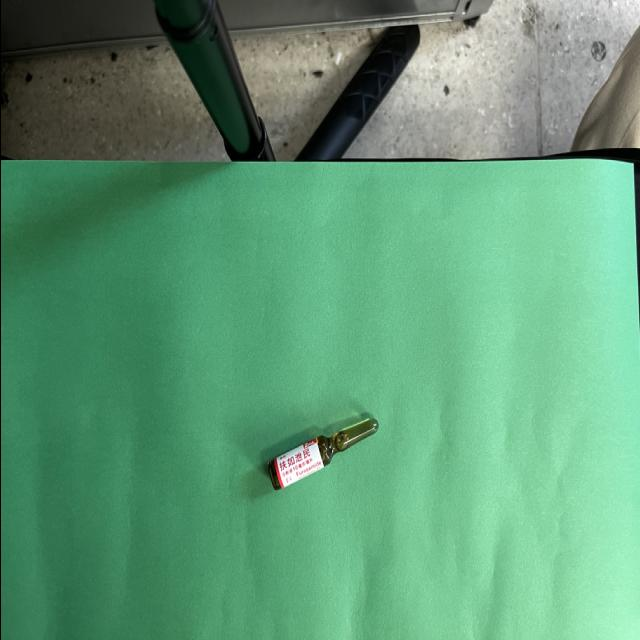Ampoules: (268, 417, 378, 489)
